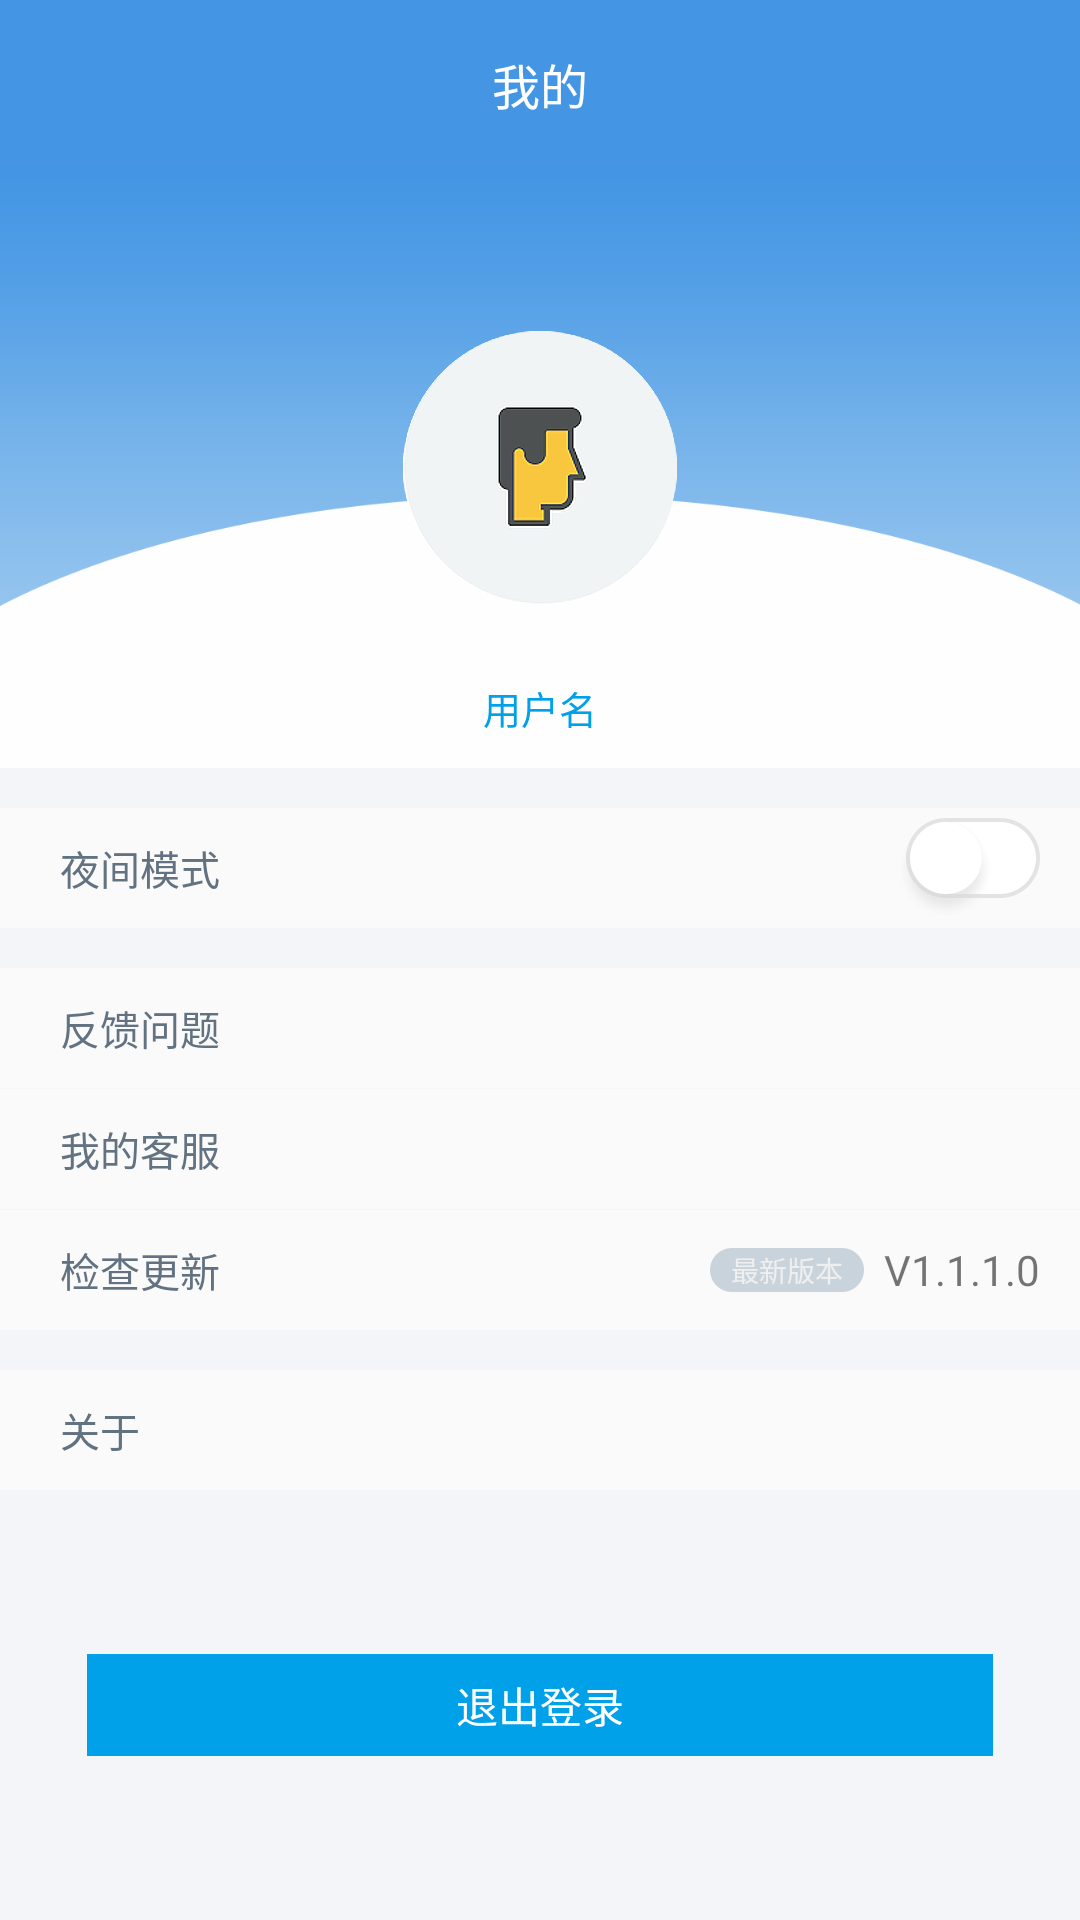

Point at icon controls on the screen. Image size 1080 x 1920, points as (x,y).
head: (540,468)
